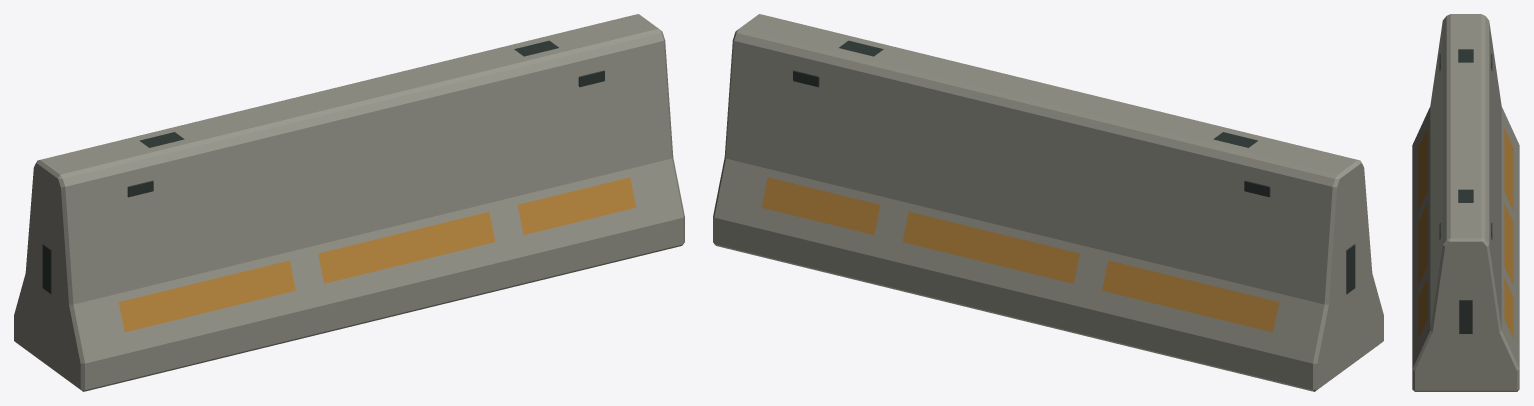
File: ConcreteBarrier.glb
The picture shows the model from 3 angles, left to right: view 1: azimuth 30°, elevation 25°; view 2: azimuth 150°, elevation 25°; view 3: azimuth 270°, elevation 25°; orthographic projection. The views are drawn at different scales.
Visible parts, largest first — view 1: ConcreteBarrier; view 2: ConcreteBarrier; view 3: ConcreteBarrier.
Part boxes in pixels (x1,y1,x2,y2): ConcreteBarrier: (14, 14, 684, 391); ConcreteBarrier: (713, 14, 1383, 391); ConcreteBarrier: (1412, 14, 1519, 391).
Size of the model in its own units: 3.01 by 0.951 by 0.6.
1 material, 1 textured.
